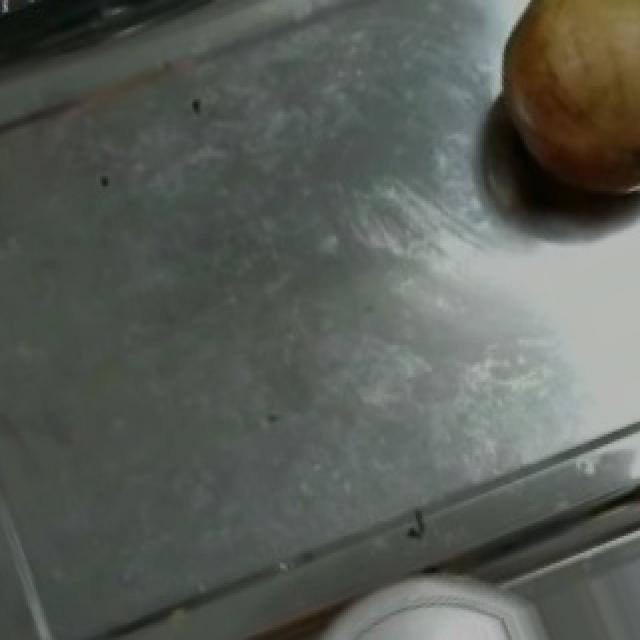fruit: (476, 0, 640, 216)
